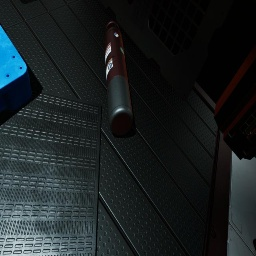FirstAidBox ,: (253, 238, 256, 252)
NitrogenTank ,: (104, 21, 133, 136)
